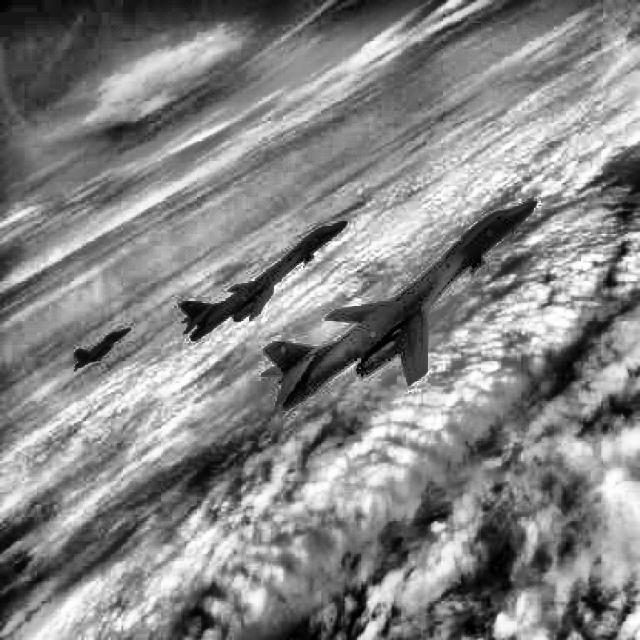B1: (259, 200, 538, 412), (178, 222, 348, 342)
F18: (71, 328, 131, 372)
